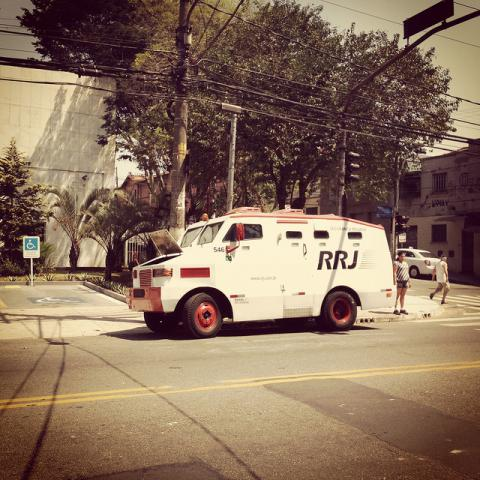car: (397, 247, 440, 278)
truck: (131, 206, 395, 339)
